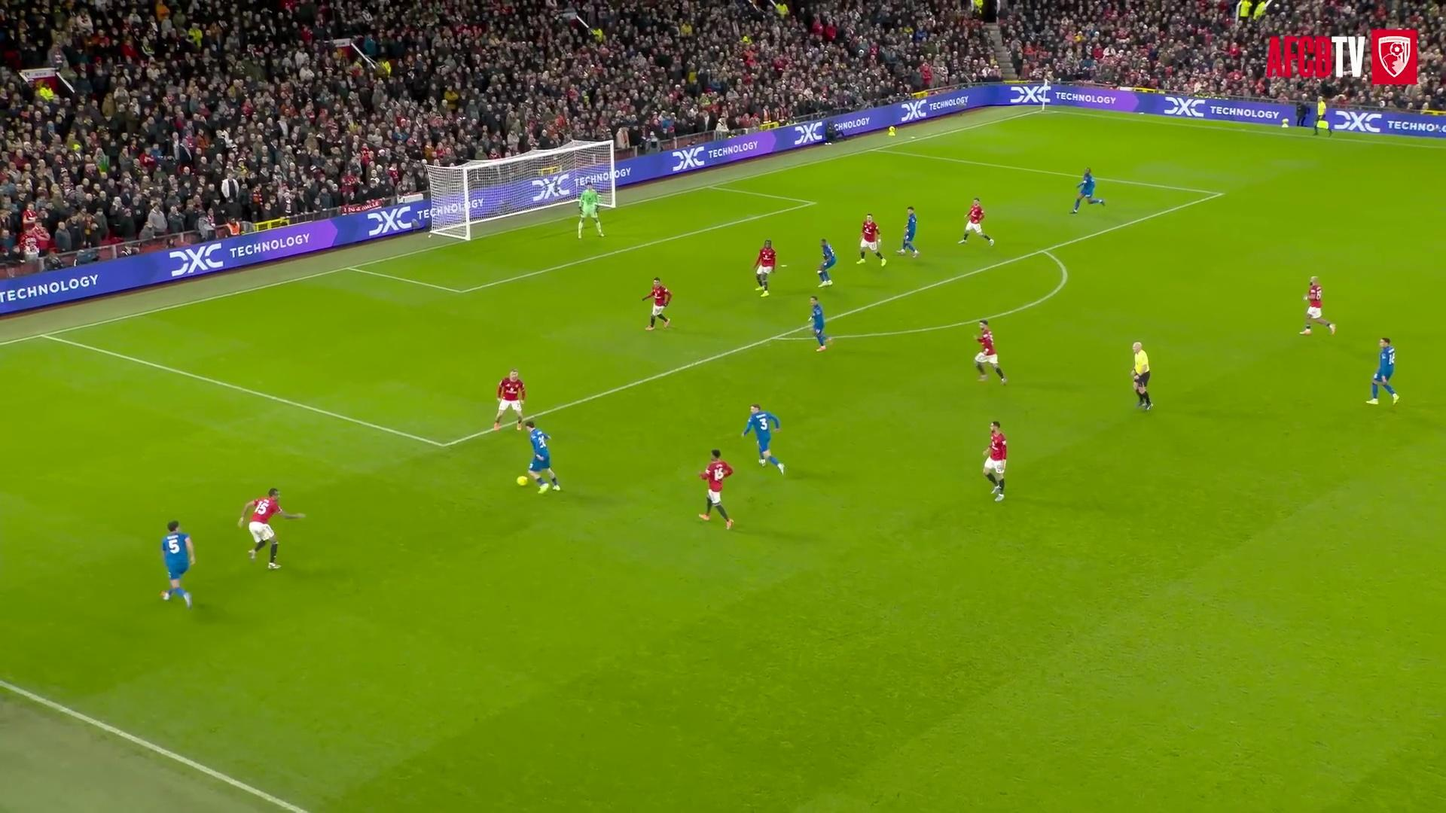football: (517, 476, 527, 485)
player: (238, 488, 305, 569), (160, 520, 194, 607), (743, 403, 784, 473), (698, 449, 733, 528), (525, 419, 560, 492), (1366, 337, 1399, 404), (975, 320, 1006, 384), (1301, 276, 1335, 334), (493, 370, 525, 430), (984, 421, 1006, 501), (959, 198, 993, 245), (856, 214, 886, 266), (1072, 168, 1105, 213), (643, 278, 671, 330), (577, 184, 603, 238), (808, 296, 831, 351), (755, 239, 776, 297), (896, 207, 919, 257), (818, 239, 837, 286)
referee: (1133, 342, 1152, 410), (1313, 96, 1332, 136)
